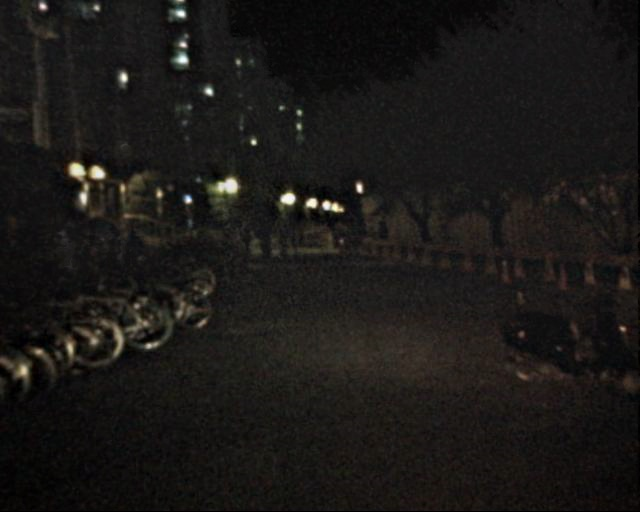person: (55, 227, 80, 287), (110, 223, 131, 274), (128, 226, 147, 272), (254, 219, 272, 264), (376, 220, 392, 260), (272, 217, 288, 257), (241, 221, 254, 253), (290, 221, 304, 244), (225, 218, 236, 246)
